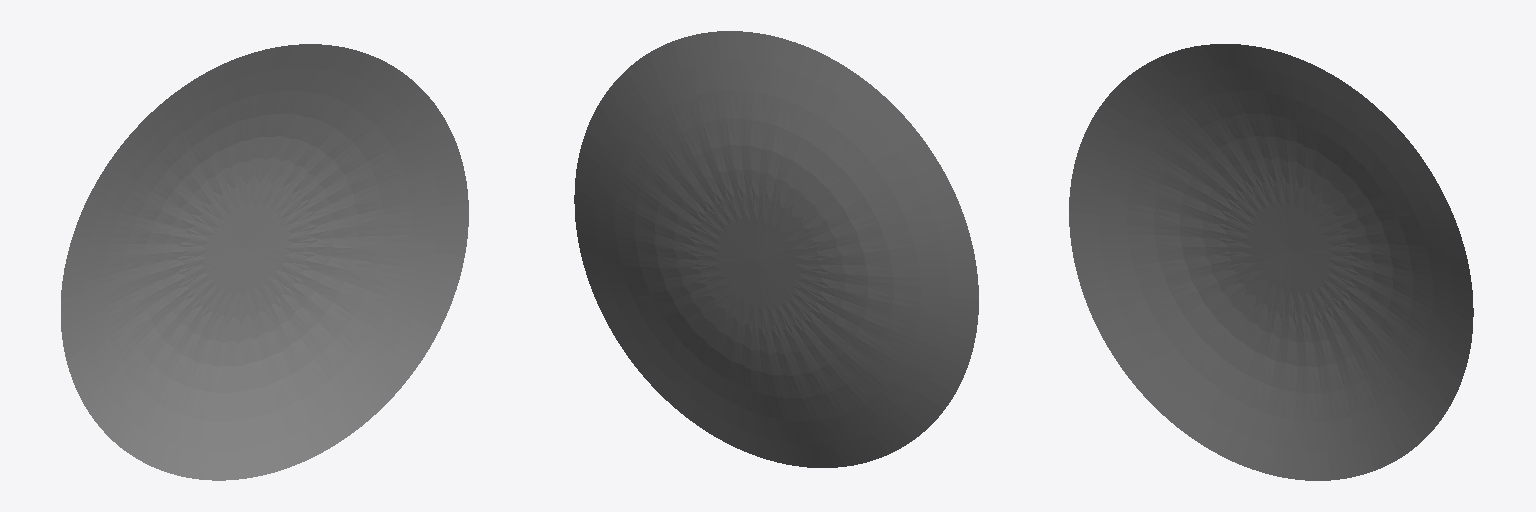
File: eyeball_1.obj
The picture shows the model from 3 angles: view 1: azimuth 30°, elevation 25°; view 2: azimuth 150°, elevation 25°; view 3: azimuth 330°, elevation 25°; orthographic projection.
Size of the model in its own units: 1.49 by 1.49 by 0.1229.